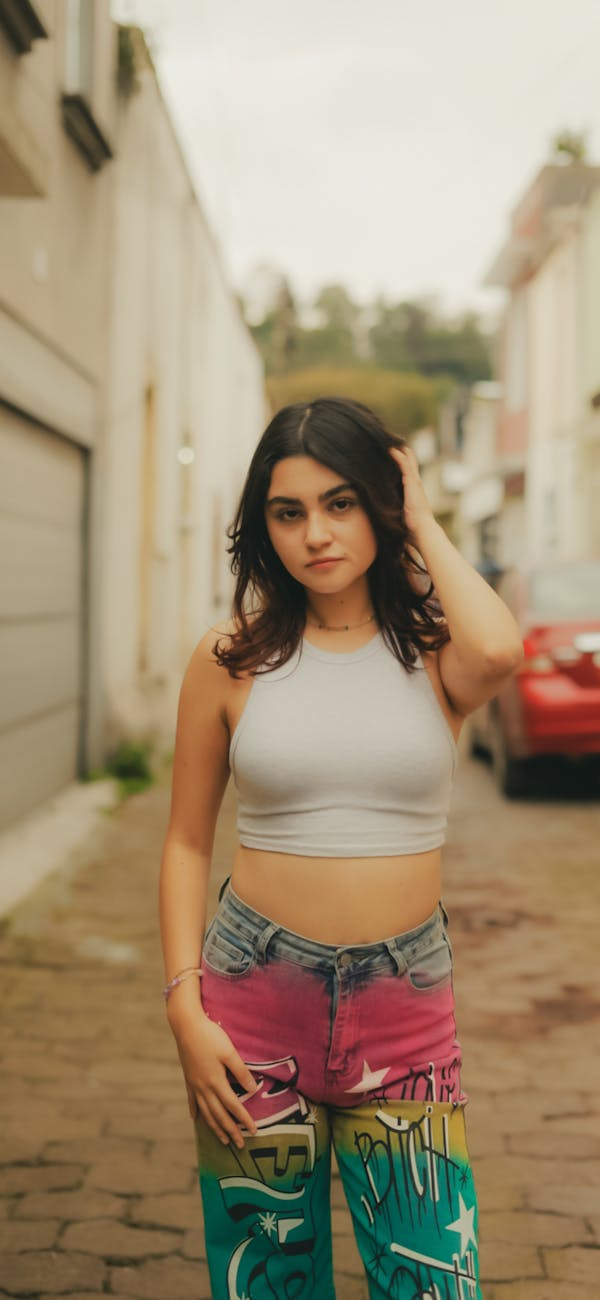crop_top: (198, 607, 482, 868)
